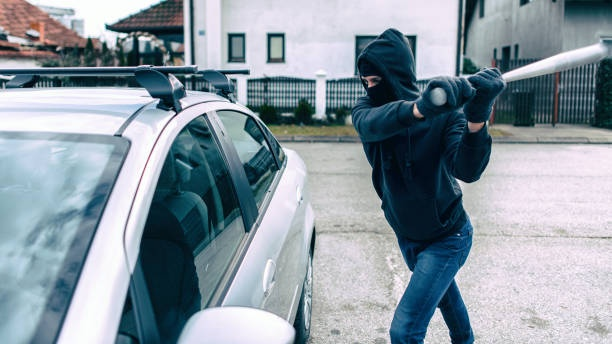bita: (432, 43, 607, 105)
